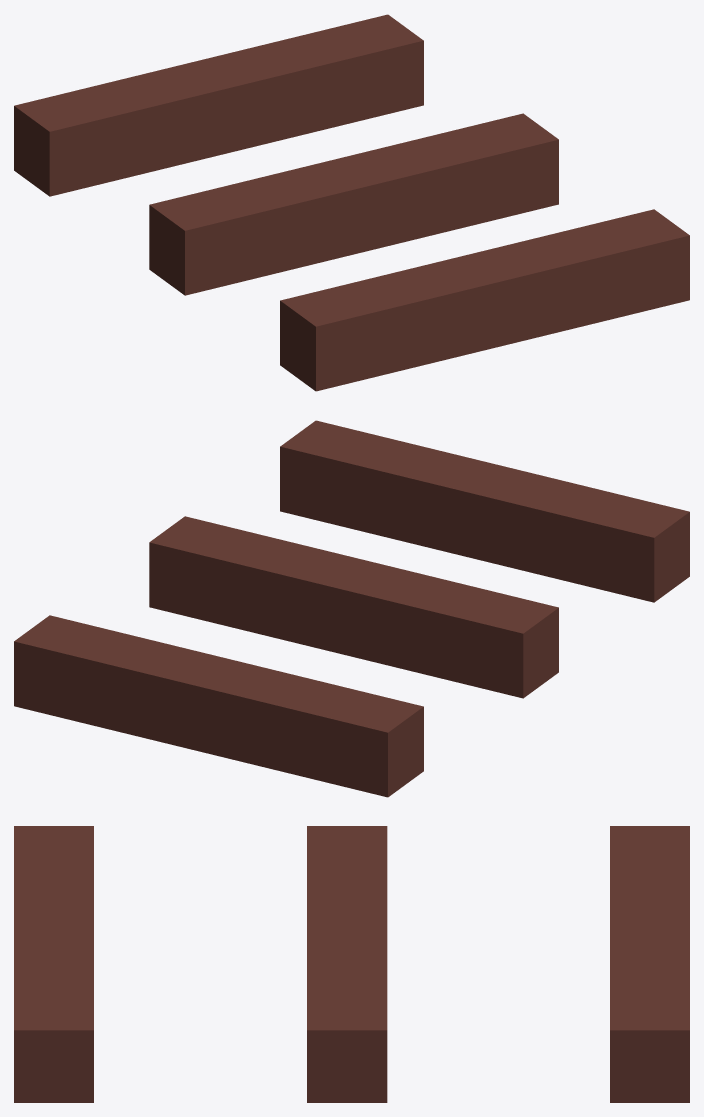
File: HousePegs.fbx
3 renders of one model, top to bottom at view 1: azimuth 30°, elevation 25°; view 2: azimuth 150°, elevation 25°; view 3: azimuth 270°, elevation 25°, orthographic. The views are drawn at different scales.
Visible parts, largest first — view 1: Cube, Cube.002, Cube.001; view 2: Cube, Cube.002, Cube.001; view 3: Cube, Cube.002, Cube.001.
Part boxes in pixels (left/top/right/bottom): Cube: left=149, top=113, right=558, bottom=295; Cube.002: left=14, top=14, right=423, bottom=196; Cube.001: left=280, top=209, right=689, bottom=391; Cube: left=149, top=516, right=558, bottom=698; Cube.002: left=14, top=615, right=423, bottom=797; Cube.001: left=280, top=420, right=689, bottom=602; Cube: left=307, top=826, right=387, bottom=1102; Cube.002: left=610, top=826, right=689, bottom=1102; Cube.001: left=14, top=826, right=93, bottom=1102.
Bounding box in the file's own units: 168 × 27.76 × 234.
